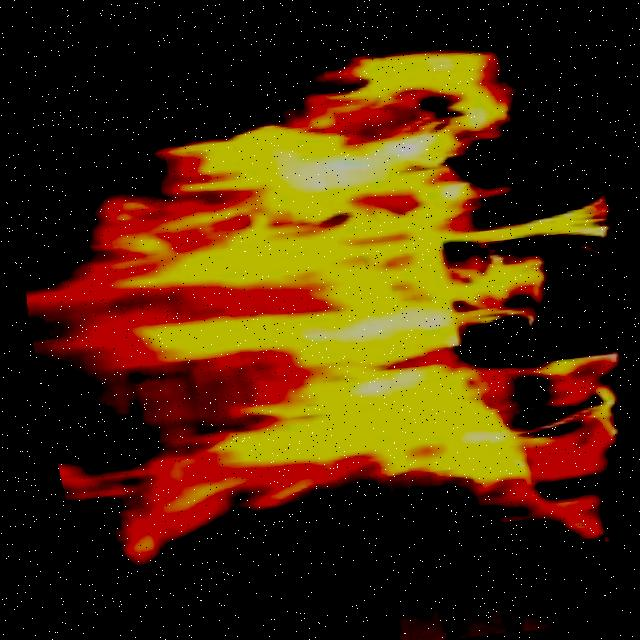Fire: (1, 17, 640, 614)
